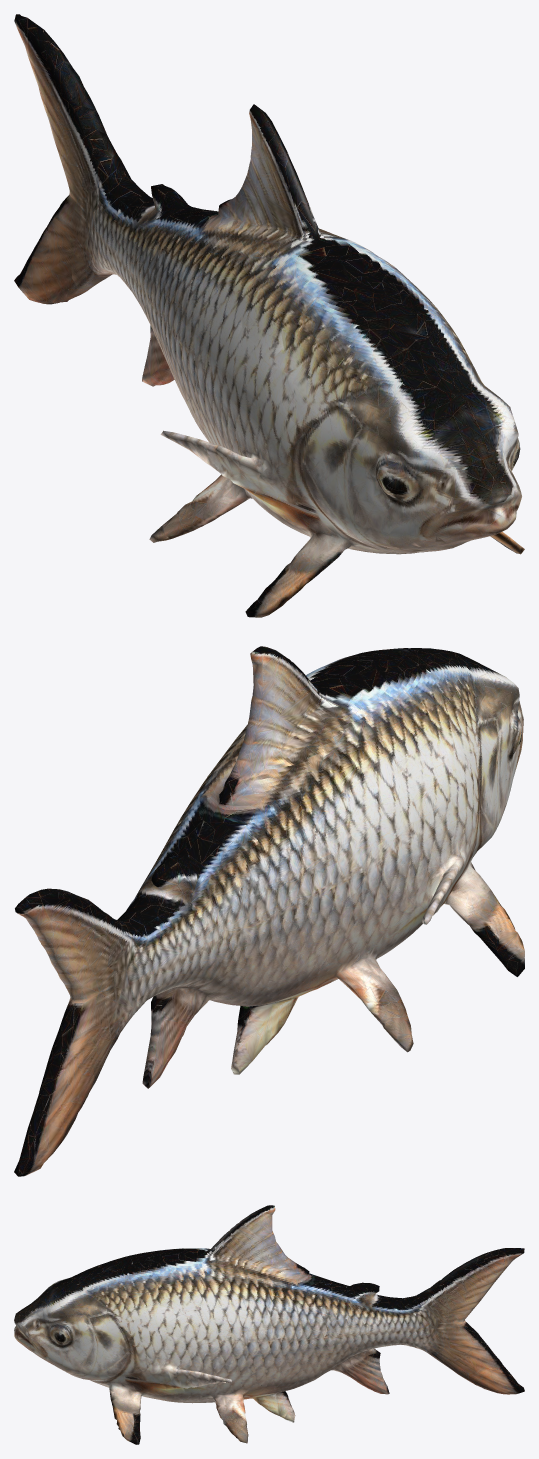
Rendered from fish_reba.glb.
3 views of the same model, one above another, from view 1: azimuth 30°, elevation 25°; view 2: azimuth 150°, elevation 25°; view 3: azimuth 270°, elevation 25° (orthographic). The views are drawn at different scales.
Parts seen in each view (by area): view 1: geometry_0; view 2: geometry_0; view 3: geometry_0.
Part boxes in pixels (x1=…): geometry_0: x1=14, y1=14, x2=524, y2=617; geometry_0: x1=14, y1=646, x2=524, y2=1176; geometry_0: x1=14, y1=1205, x2=524, y2=1444.
Bounding box in the file's own units: 0.6367 × 0.9181 × 1.96.
Materials: 1 (1 with a texture image).
